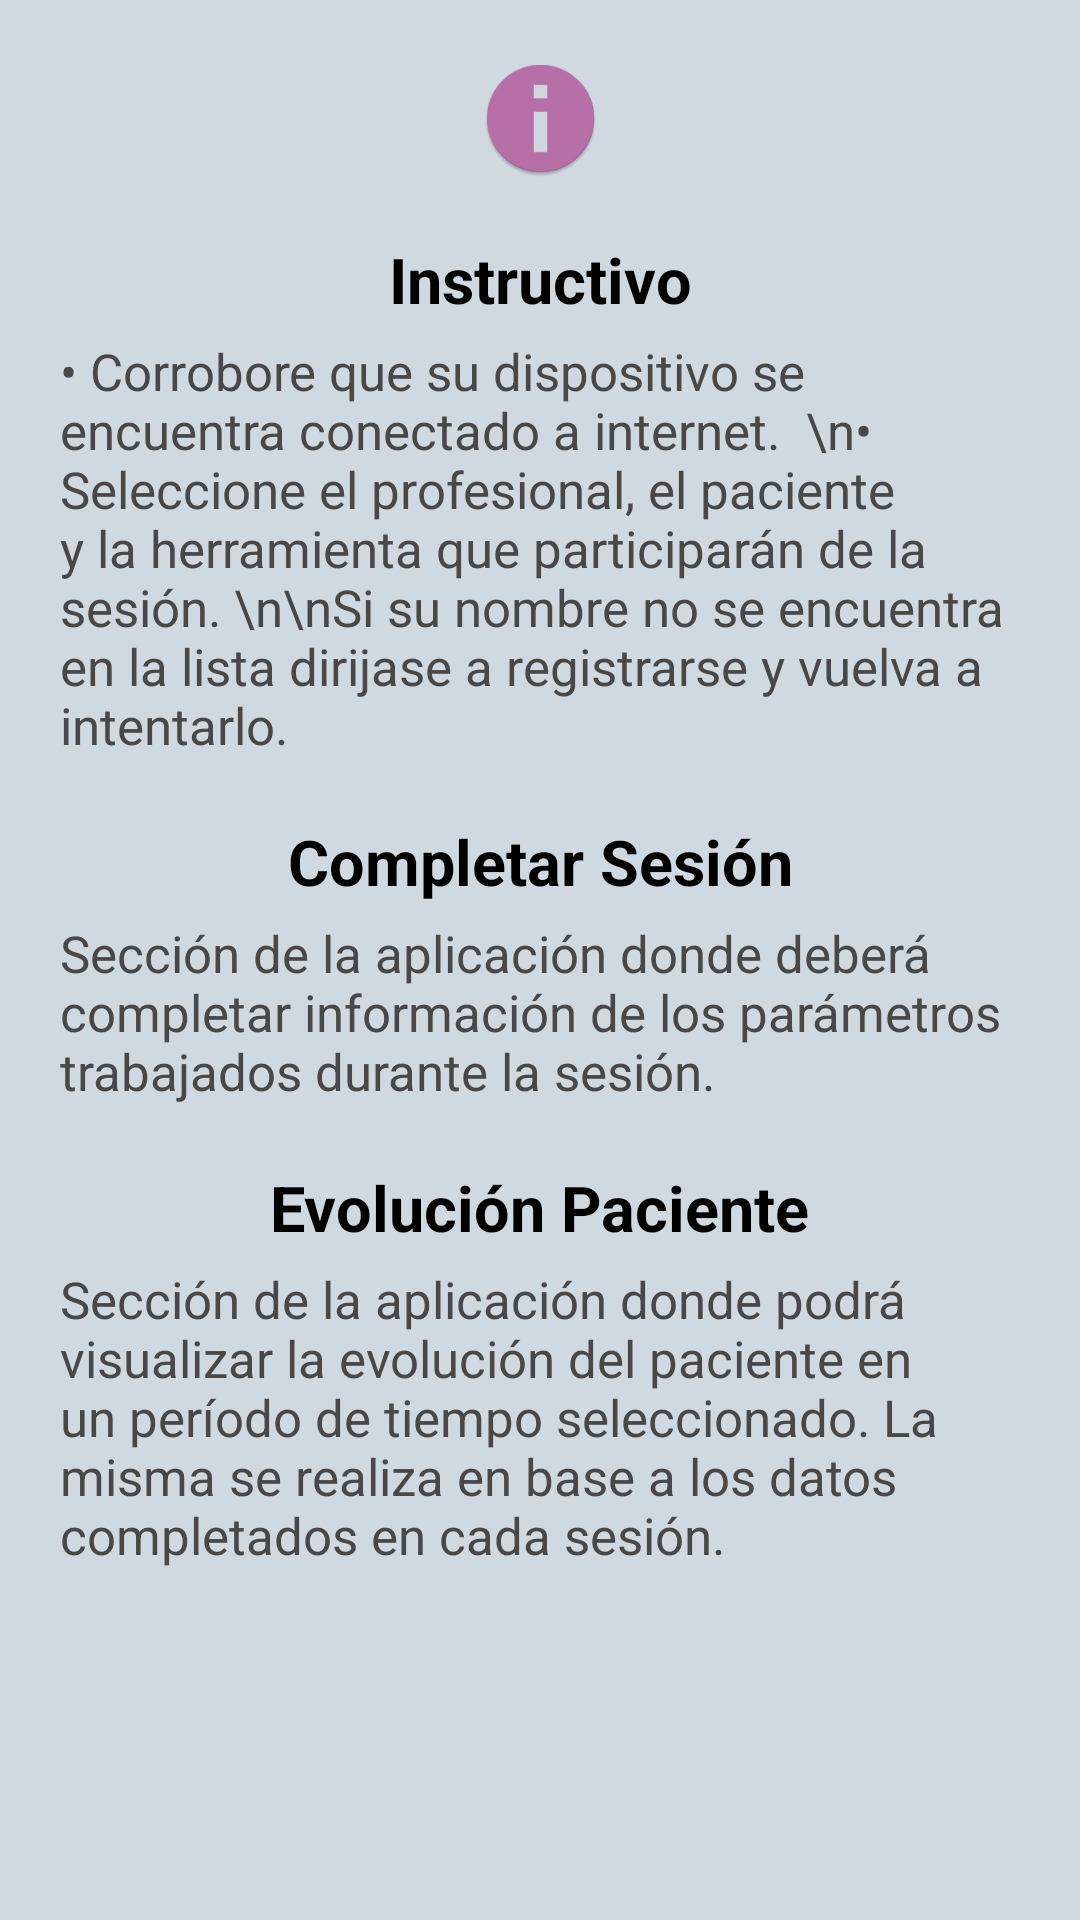

Icons on this 1080x1920 Android screen, each with its box as box(x1, y1, x2, y2):
informacion: box(487, 65, 595, 175)
